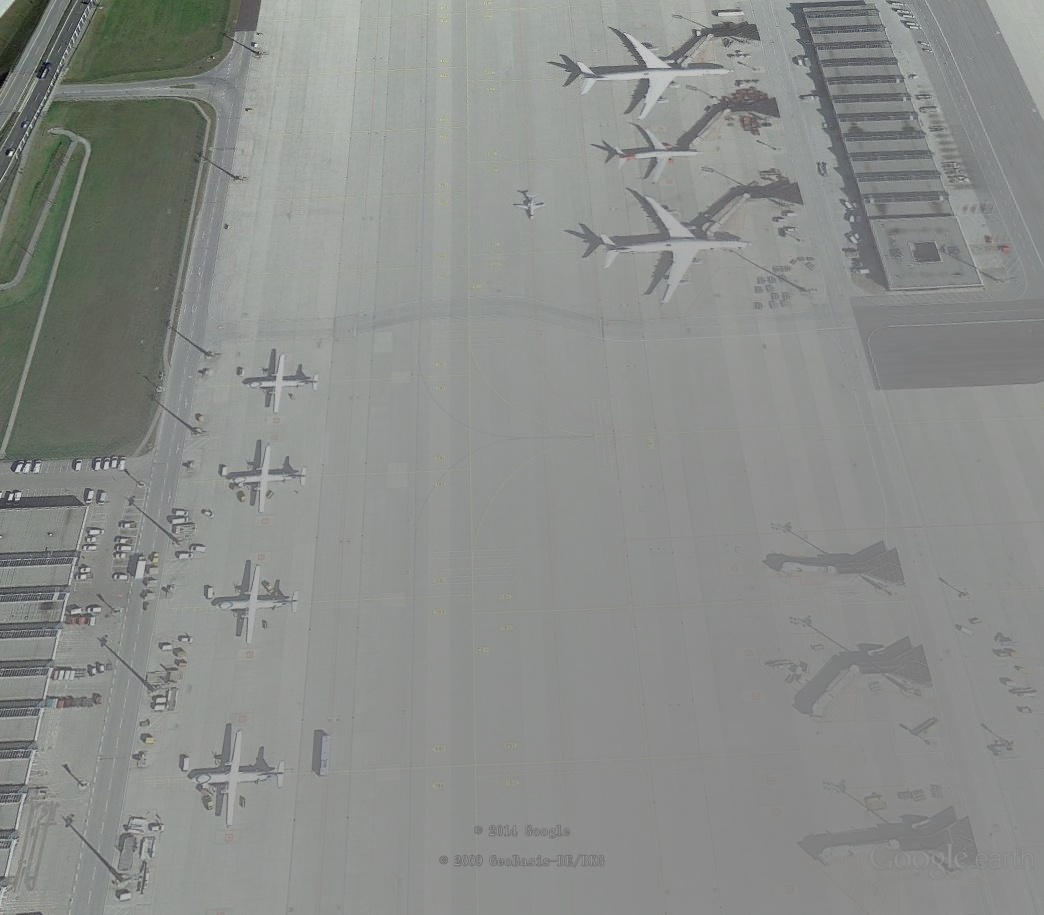aircraft: (591, 187, 754, 316), (562, 28, 738, 129), (187, 727, 289, 832), (210, 564, 304, 649), (607, 120, 706, 190), (225, 439, 312, 517), (244, 348, 321, 420), (514, 189, 550, 223)
